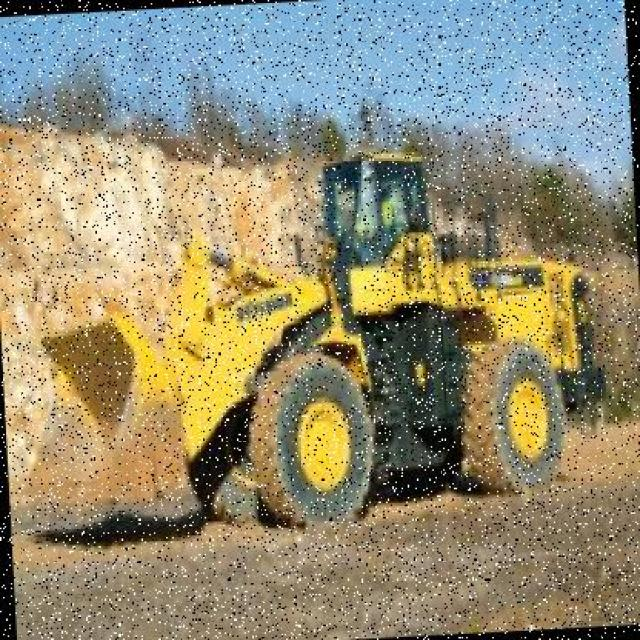buldozerpayloadergrader: (5, 131, 603, 546)
